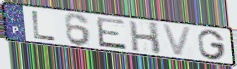6: (63, 12, 93, 48)
E: (94, 16, 129, 51)
G: (197, 28, 228, 61)
H: (127, 20, 163, 56)
L: (31, 9, 59, 42)
V: (160, 22, 195, 58)
